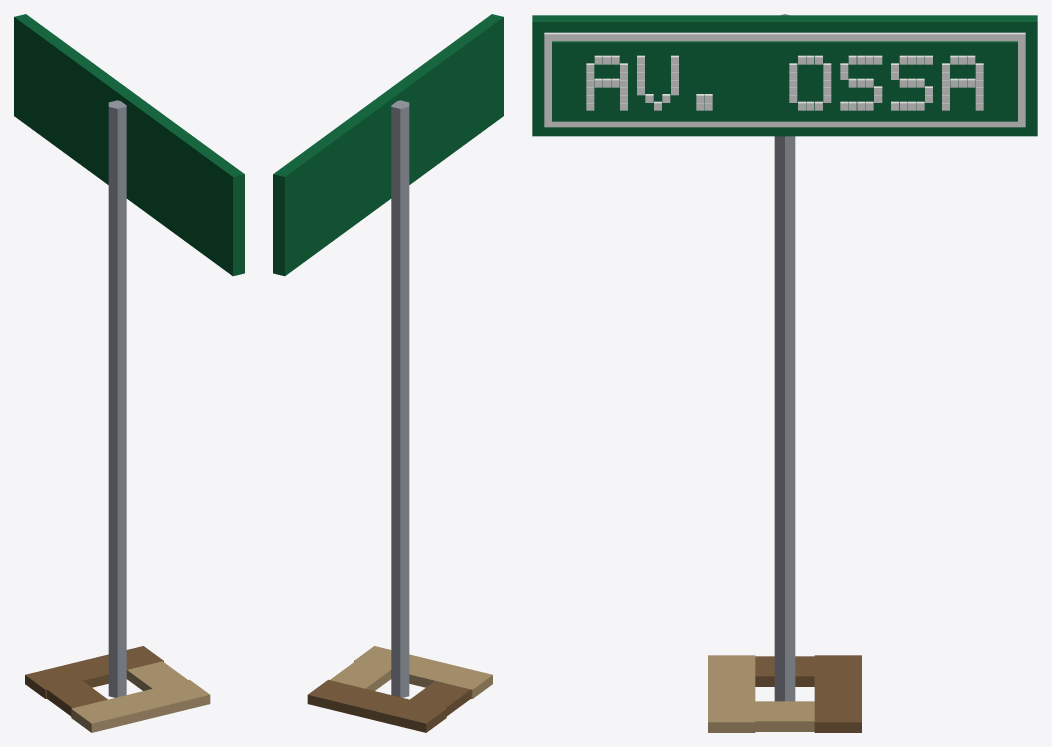
Rendered from letrero_calle_ossa.obj.
3 renders of one model, left to right at view 1: azimuth 30°, elevation 25°; view 2: azimuth 150°, elevation 25°; view 3: azimuth 270°, elevation 25°, orthographic. The views are drawn at different scales.
Parts seen in each view (by area): view 1: letrero_calle_ossa; view 2: letrero_calle_ossa; view 3: letrero_calle_ossa.
Part boxes in pixels (<box>): letrero_calle_ossa: <box>14,14,244,732</box>; letrero_calle_ossa: <box>273,14,503,732</box>; letrero_calle_ossa: <box>532,14,1037,732</box>.
Size of the model in its own units: 0.8 by 3.84 by 2.56.
